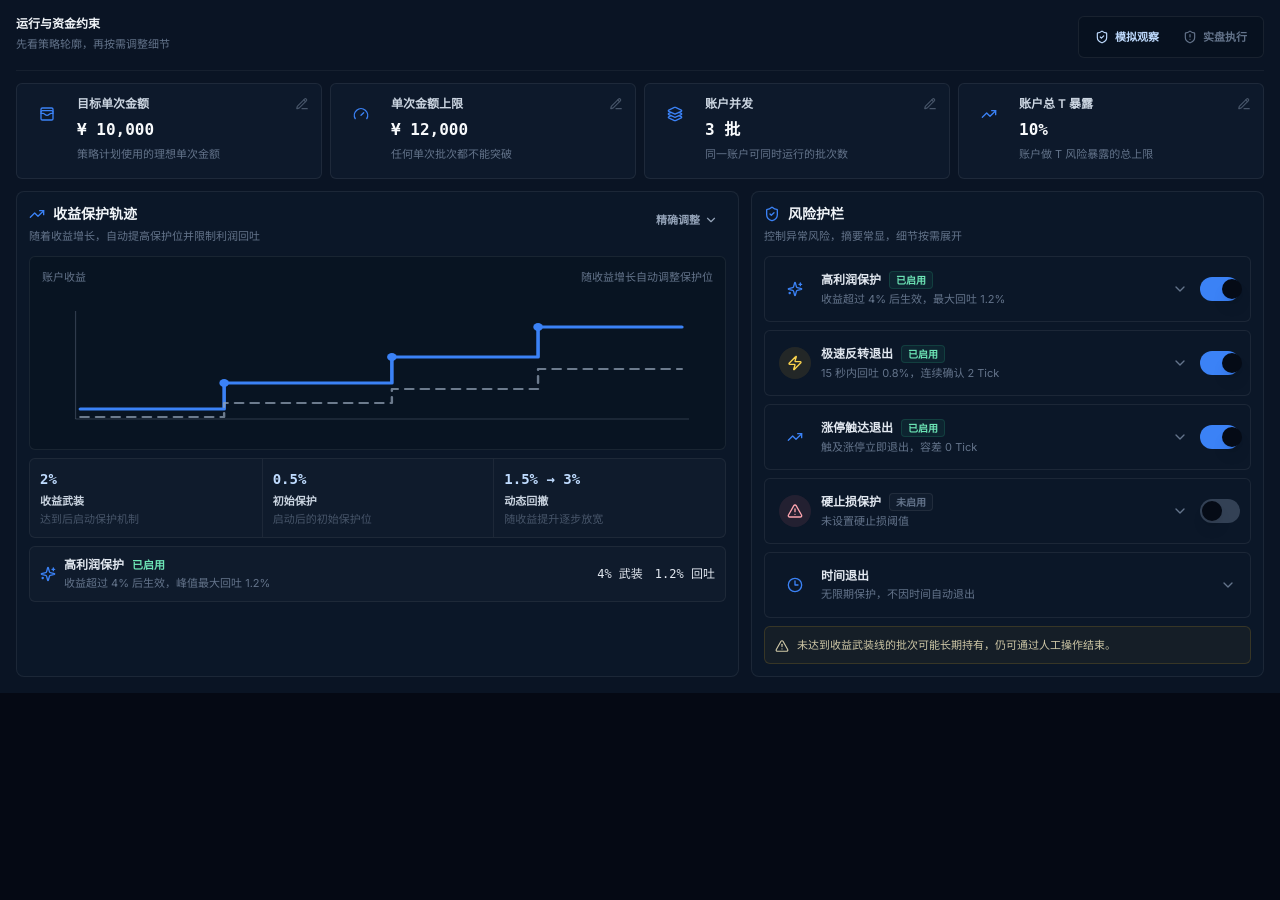
Test: TTradeExecutionSettingsPanel › expands one risk guardrail at a time and keeps precise inputs labeled
Click the button "极速反转退出 已启用 15 秒内回吐 0.8%，连续确认 2 Tick": (984, 363) 775,341 -> 1192,385
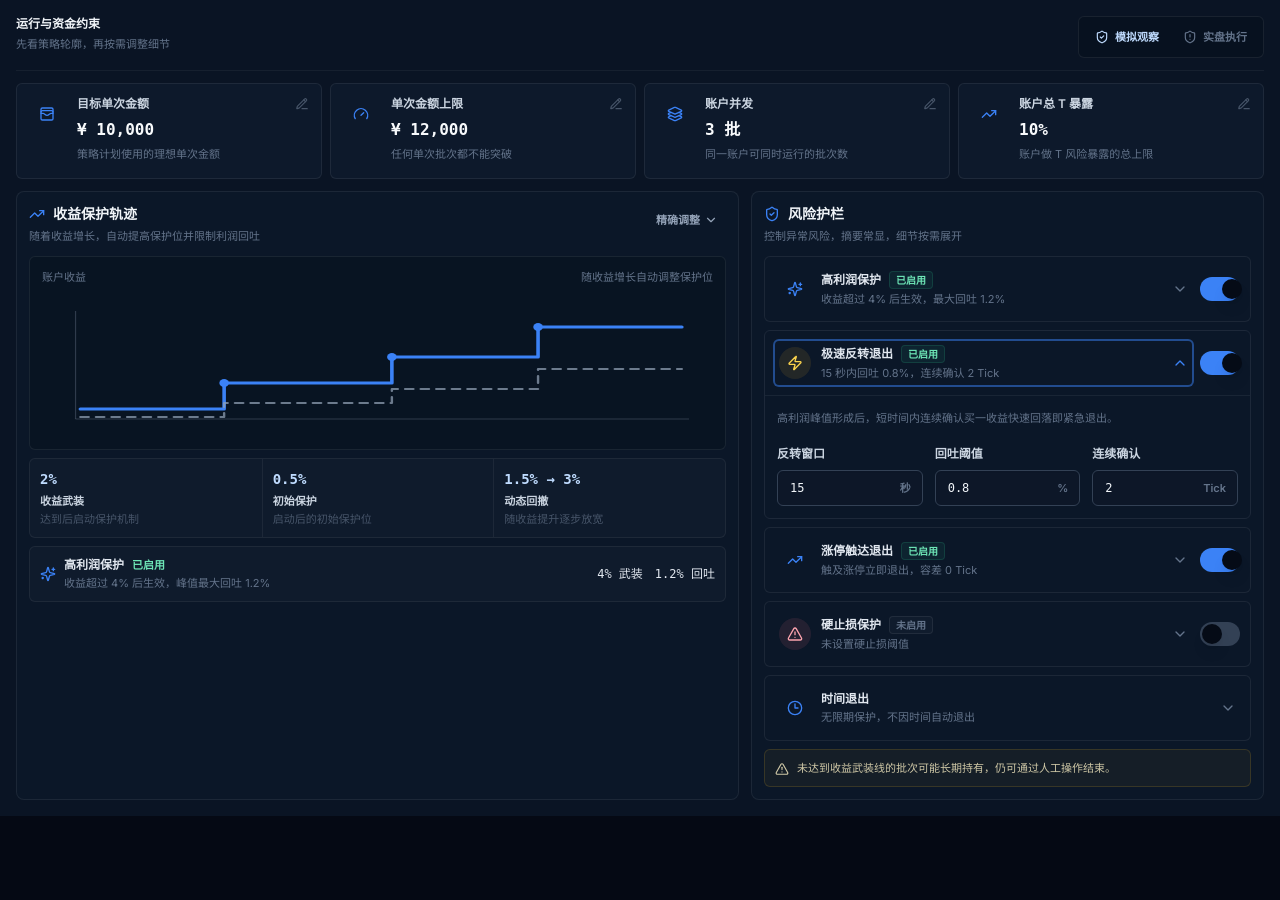
Expected: the field labelled "反转窗口" holds "15", 777,470 -> 923,506
Expected: the field labelled "回吐阈值" holds "0.8", 935,470 -> 1080,506
Expected: the field labelled "连续确认" holds "2", 1092,470 -> 1238,506
Click the button "高利润保护 已启用 收益超过 4% 后生效，最大回吐 1.2%": (984, 289) 775,267 -> 1192,311
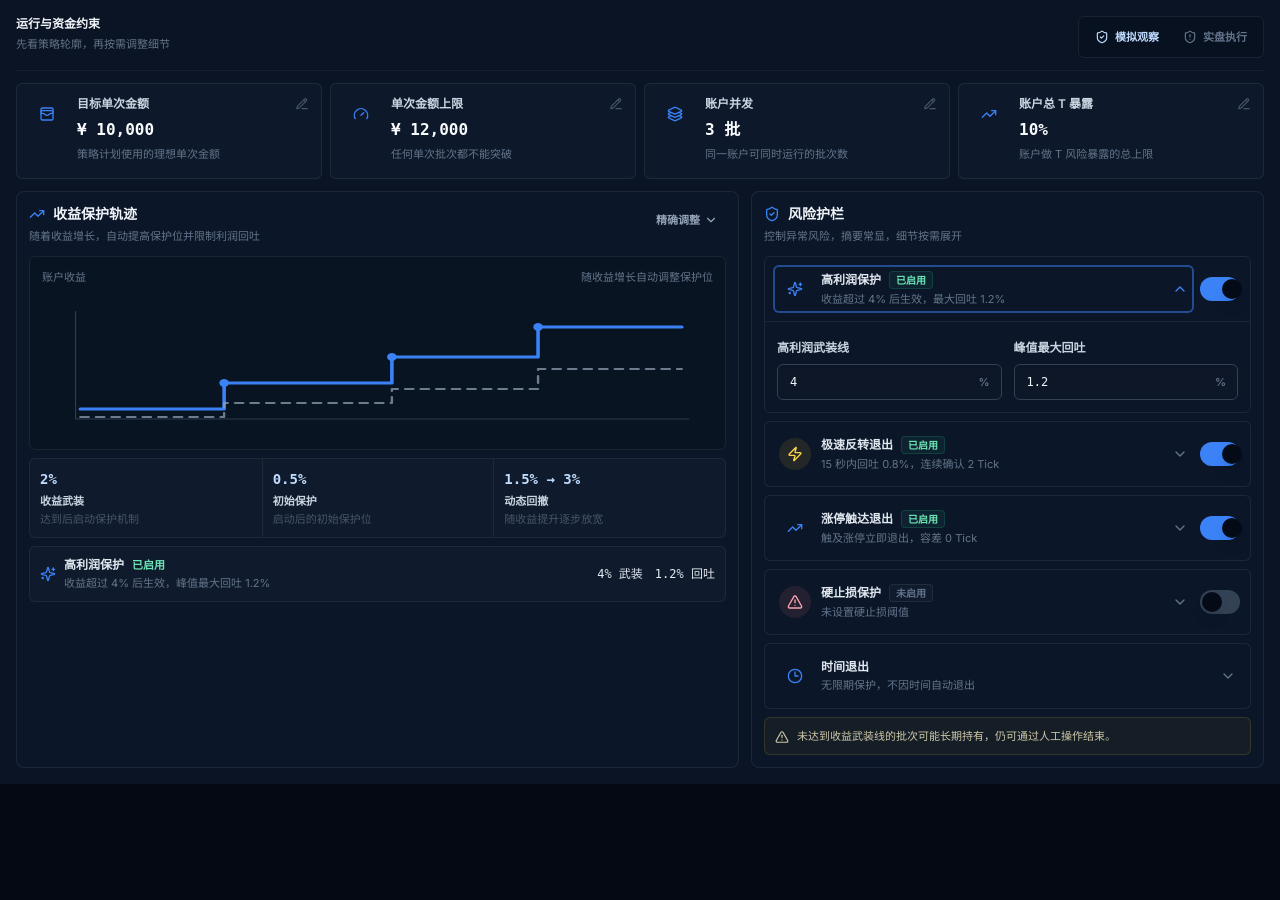
Expected: the label labelled "反转窗口" is gone
Expected: the field labelled "高利润武装线" holds "4", 777,364 -> 1002,400
Expected: the field labelled "峰值最大回吐" holds "1.2", 1014,364 -> 1238,400
